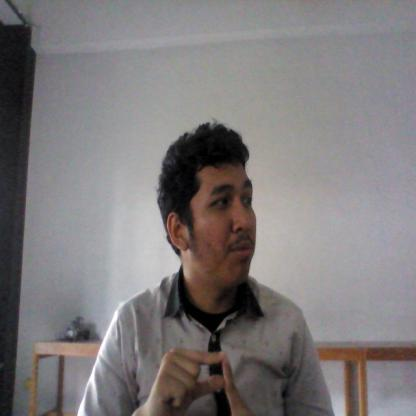P: (143, 345, 249, 416)
